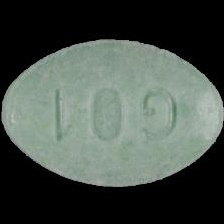70786-0467: (0, 0, 224, 224)
